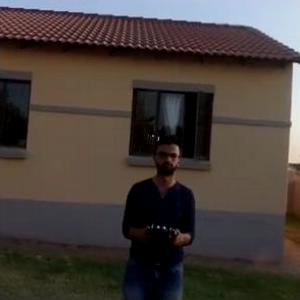follow: (117, 130, 199, 299)
